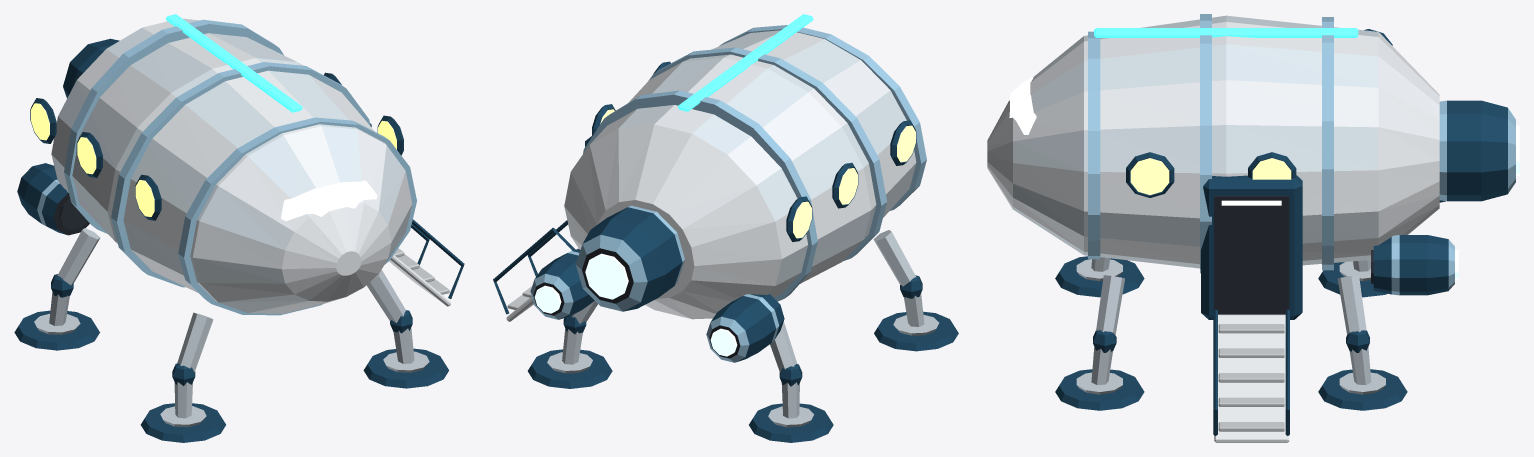
Rendered from fro-p_offen.glb.
3 renders of one model, left to right at view 1: azimuth 30°, elevation 25°; view 2: azimuth 150°, elevation 25°; view 3: azimuth 270°, elevation 25°, orthographic. The views are drawn at different scales.
Visible parts, largest first — view 1: rumpf, dämmringe, landebein_2, landebein_4, landebein_1, fenster, triebwerk_r, cockpit, aurorastreifen, treppe, triebwerk_m; view 2: rumpf, dämmringe, triebwerk_m, landebein_2, landebein_4, triebwerk_r, landebein_3, fenster, triebwerk_l, aurorastreifen, treppe; view 3: rumpf, treppe, türöffnung, dämmringe, triebwerk_m, landebein_3, landebein_1, triebwerk_l, türmodul, fenster, aurorastreifen, landebein_2 (+2 smaller).
Boxes of the visible parts, bbox=[...] form: rumpf: bbox=[51, 18, 412, 313]; dämmringe: bbox=[64, 19, 416, 315]; landebein_2: bbox=[140, 312, 225, 442]; landebein_4: bbox=[14, 228, 100, 350]; landebein_1: bbox=[363, 269, 448, 388]; fenster: bbox=[30, 72, 403, 220]; triebwerk_r: bbox=[17, 163, 89, 235]; cockpit: bbox=[281, 180, 377, 221]; aurorastreifen: bbox=[166, 14, 302, 112]; treppe: bbox=[389, 219, 464, 306]; triebwerk_m: bbox=[63, 38, 119, 98]; rumpf: bbox=[564, 30, 916, 319]; dämmringe: bbox=[583, 25, 926, 301]; triebwerk_m: bbox=[575, 205, 684, 311]; landebein_2: bbox=[873, 230, 958, 351]; landebein_4: bbox=[749, 321, 833, 442]; triebwerk_r: bbox=[706, 294, 784, 362]; landebein_3: bbox=[528, 301, 612, 388]; fenster: bbox=[592, 61, 916, 241]; triebwerk_l: bbox=[530, 249, 594, 319]; aurorastreifen: bbox=[678, 14, 813, 111]; treppe: bbox=[493, 220, 578, 321]; rumpf: bbox=[987, 15, 1439, 268]; treppe: bbox=[1213, 309, 1289, 442]; türöffnung: bbox=[1214, 195, 1289, 314]; dämmringe: bbox=[1088, 14, 1333, 273]; triebwerk_m: bbox=[1439, 100, 1519, 201]; landebein_3: bbox=[1318, 275, 1407, 410]; landebein_1: bbox=[1055, 275, 1144, 410]; triebwerk_l: bbox=[1371, 235, 1458, 295]; türmodul: bbox=[1201, 175, 1302, 319]; fenster: bbox=[1126, 29, 1392, 197]; aurorastreifen: bbox=[1094, 28, 1358, 37]; landebein_2: bbox=[1055, 256, 1144, 297].
Bounding box in the file's own units: 0.1107 × 0.0829 × 0.1309.
